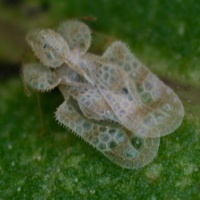insect: (23, 20, 183, 168)
